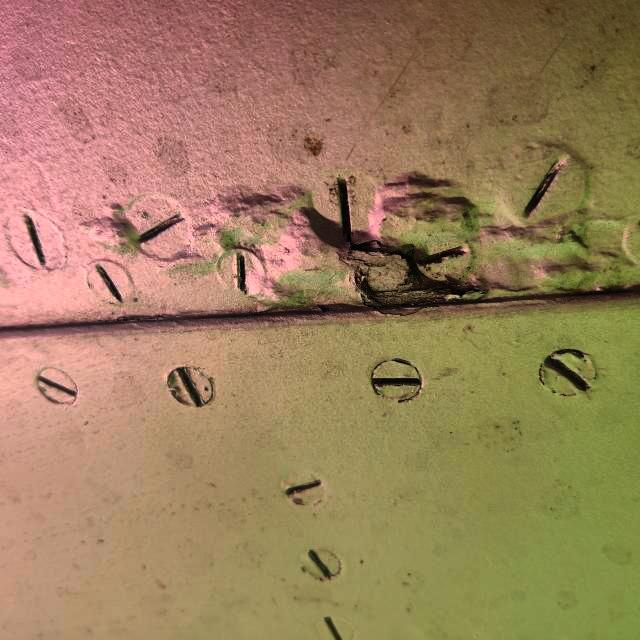paint-off: (281, 162, 507, 339)
